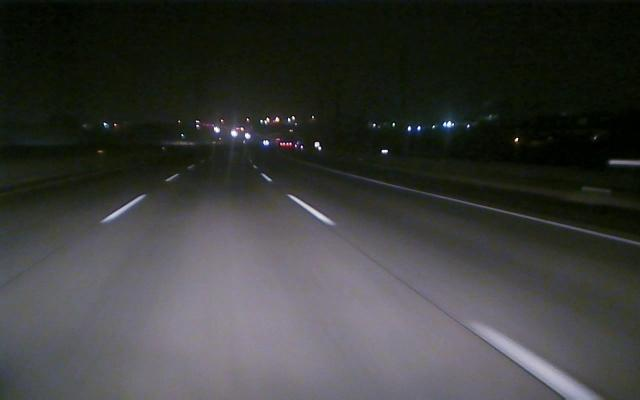lane: (262, 173, 609, 400), (341, 172, 637, 246), (101, 173, 179, 221)
